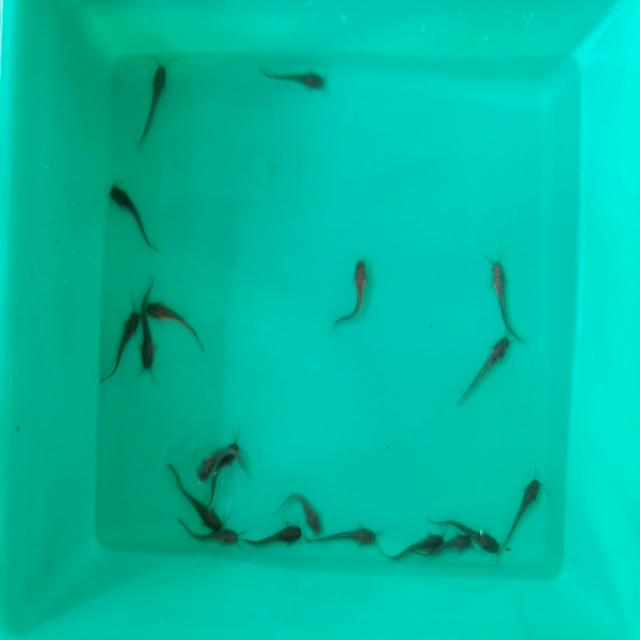lele: (458, 336, 512, 401), (108, 180, 154, 248), (100, 304, 138, 385), (487, 262, 527, 332), (170, 483, 230, 528), (504, 482, 546, 546), (140, 60, 168, 145), (257, 64, 323, 94), (242, 519, 308, 549), (342, 257, 371, 325), (378, 530, 443, 558), (146, 300, 202, 332), (306, 526, 380, 550), (292, 490, 328, 538), (138, 308, 156, 378), (468, 521, 502, 557), (217, 440, 251, 475), (178, 526, 240, 544), (195, 443, 219, 485), (442, 528, 472, 558)
